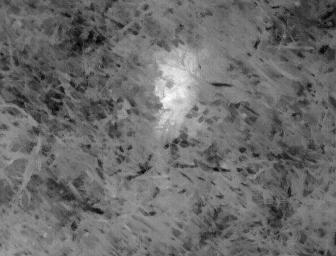landmine: (152, 42, 202, 135)
